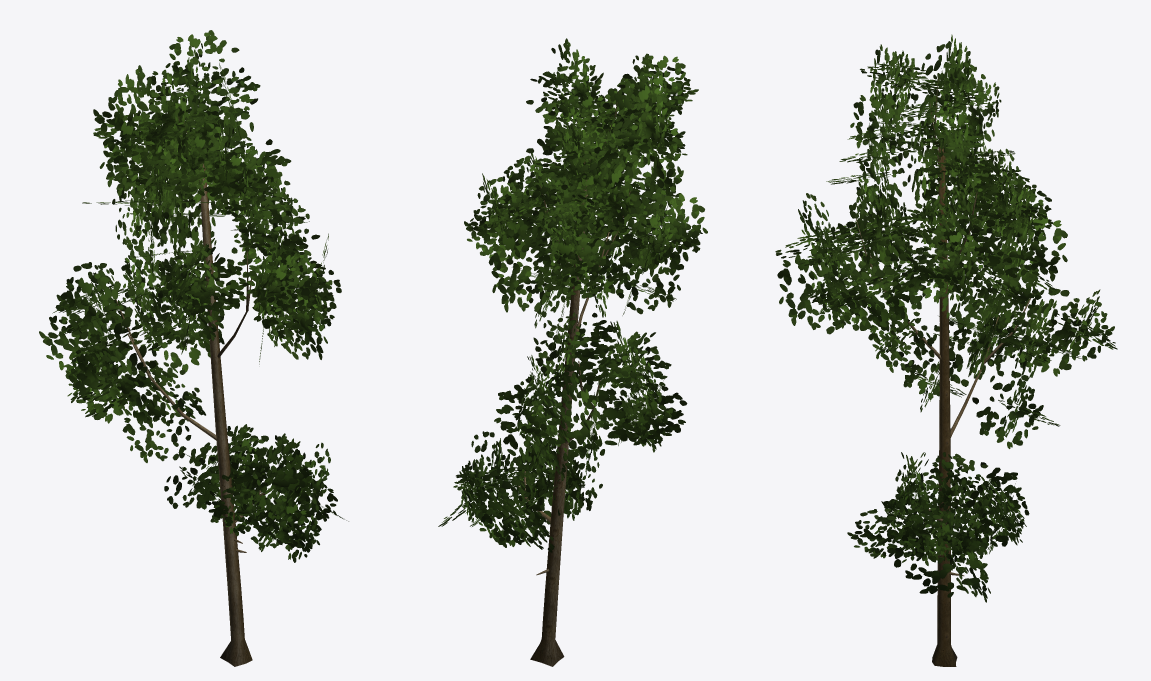
The model's file is env_tree_prairie_tall_01.glb.
3 views of the same model, side by side, from view 1: azimuth 30°, elevation 25°; view 2: azimuth 150°, elevation 25°; view 3: azimuth 270°, elevation 25° (orthographic). The views are drawn at different scales.
Parts seen in each view (by area): view 1: tree_prairie_tall_01; view 2: tree_prairie_tall_01; view 3: tree_prairie_tall_01.
Part boxes in pixels (x1,y1,x2,y2): tree_prairie_tall_01: (39, 30, 348, 666); tree_prairie_tall_01: (438, 38, 707, 666); tree_prairie_tall_01: (775, 34, 1117, 666).
Size of the model in its own units: 4.8 by 10.53 by 5.94.
Materials: 2 (2 with a texture image).
